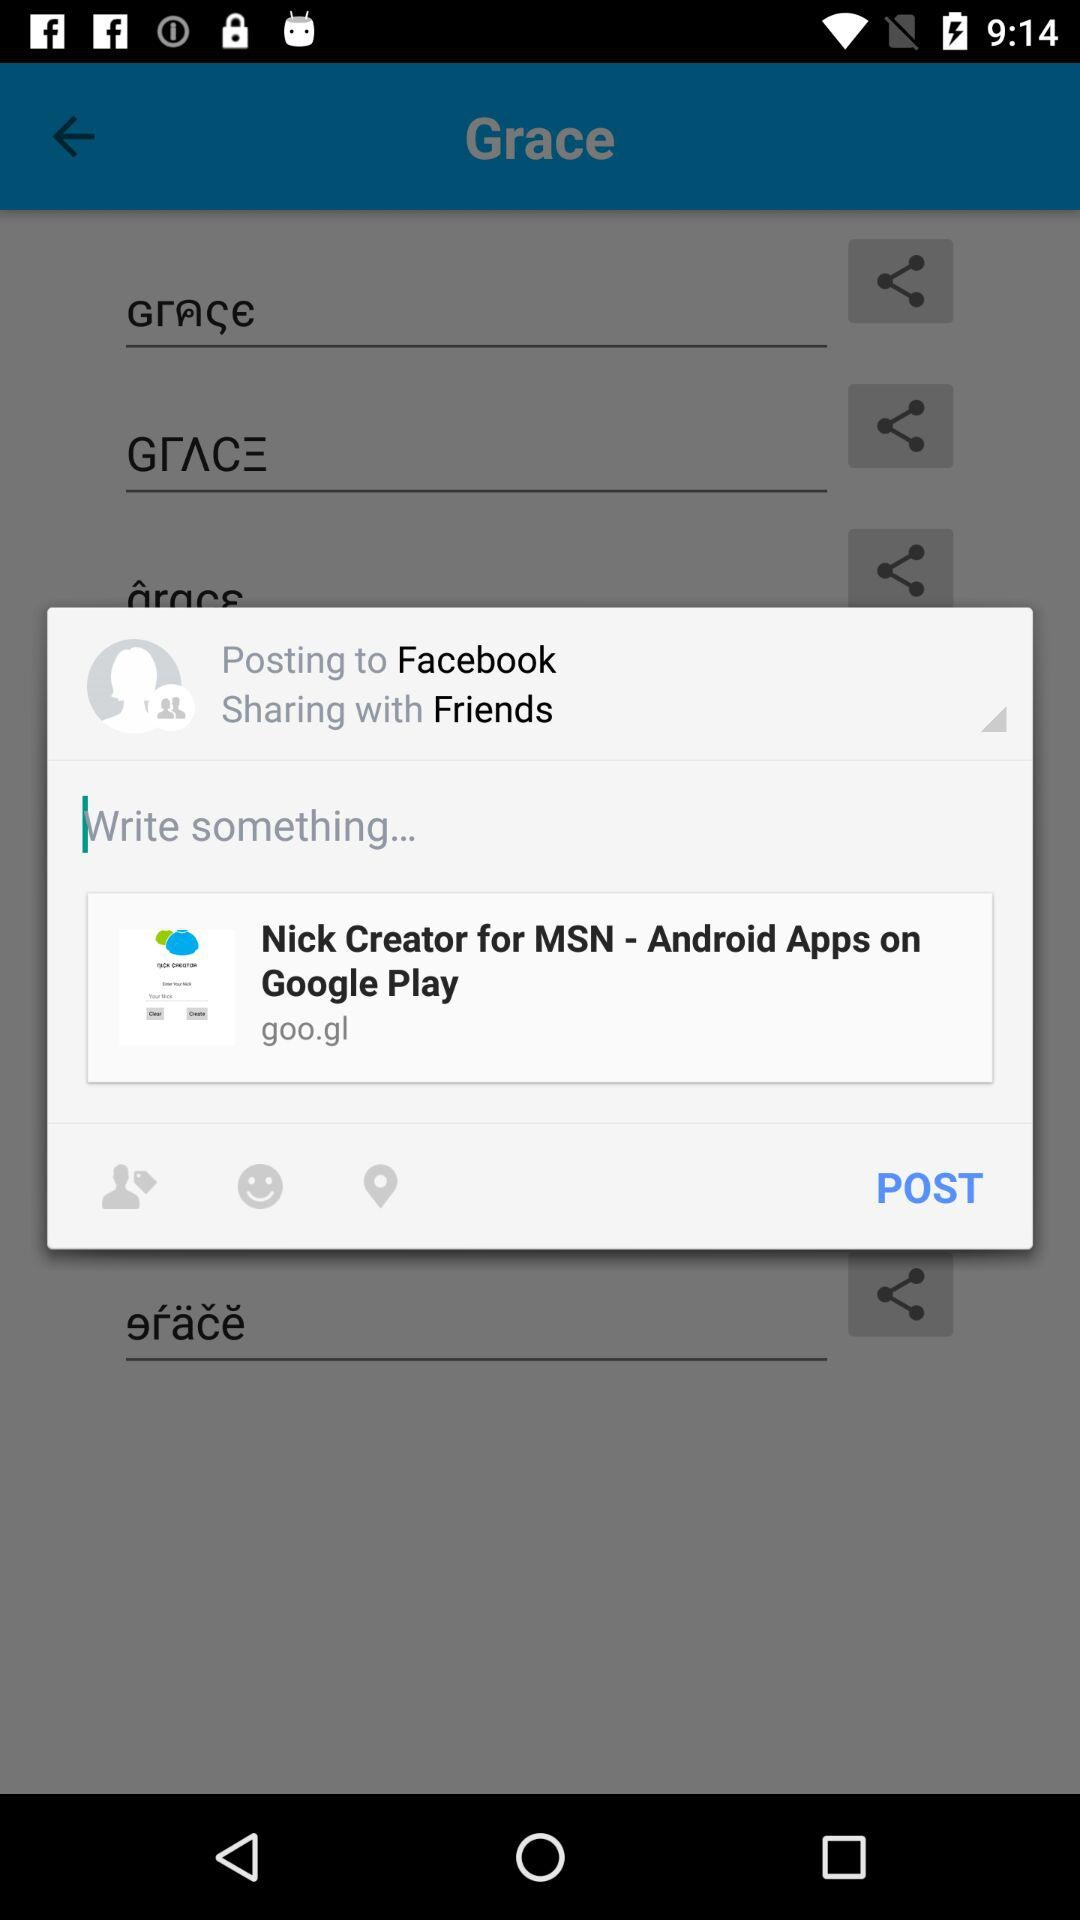EditText: (82, 796, 998, 853)
FrameLayout: (0, 63, 1080, 1793), (47, 887, 1033, 1124), (82, 887, 998, 1088), (74, 634, 222, 735)
ImageView: (148, 684, 195, 731)
Layout: (88, 893, 992, 1083), (74, 634, 556, 735), (87, 634, 195, 735)
LinearLayout: (0, 0, 1080, 1793), (26, 585, 1054, 1270)
TextView: (261, 918, 967, 1005), (862, 1124, 998, 1250), (222, 683, 433, 733), (222, 634, 397, 683), (397, 634, 556, 683), (433, 683, 554, 733), (261, 1010, 349, 1058)
View: (47, 760, 1033, 1124), (82, 887, 998, 1088), (47, 608, 1033, 760), (0, 1793, 1080, 1920), (47, 1124, 1033, 1250), (0, 0, 1080, 63), (458, 1124, 862, 1250), (119, 930, 235, 1046), (87, 640, 182, 735), (82, 1149, 177, 1225), (218, 1149, 305, 1225), (344, 1149, 417, 1225), (148, 684, 195, 731)
